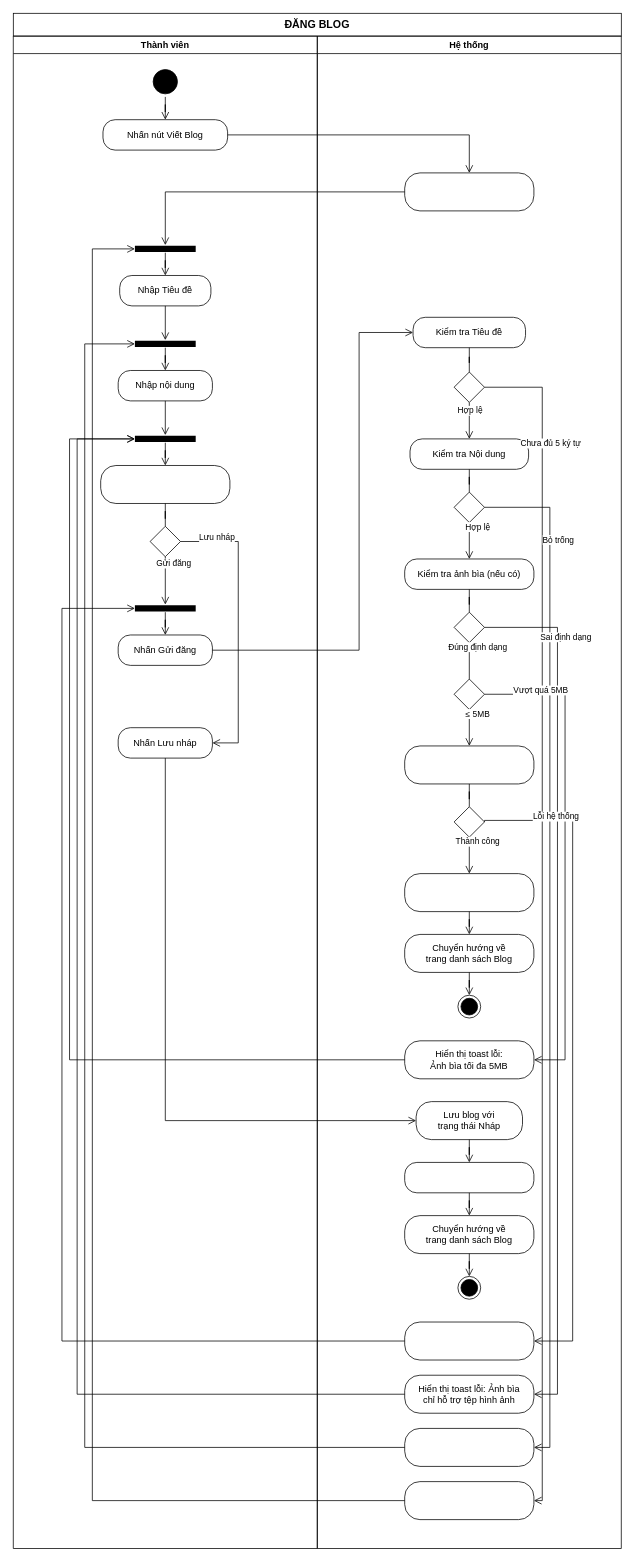
Some shapes in this 635 by 1562 pixel diagram are drawn without their labels. The centre of each missing label's shape, as x and y in pixels:
Chuyển hướng sang màn hình Tạo Blog: [469,191]
Gửi yêu cầu tạo blog (trạng thái chờ duyệt): [469,764]
Hiển thị lỗi: Không thể tạo blog. Vui lòng thử lại.: [469,1340]
Hiển thị lỗi: Tiêu đề blog cần tối thiểu 5 ký tự: [469,1500]
Hiển thị lỗi: Vui lòng nhập nội dung blog: [469,1447]
Hiển thị toast: Blog đã được gửi và đang chờ duyệt: [469,892]
Hiển thị toast: Đã lưu nháp!: [469,1177]
Nhập Tóm tắt, chọn ảnh bìa, chọn Tag (tuỳ chọn): [165,484]
